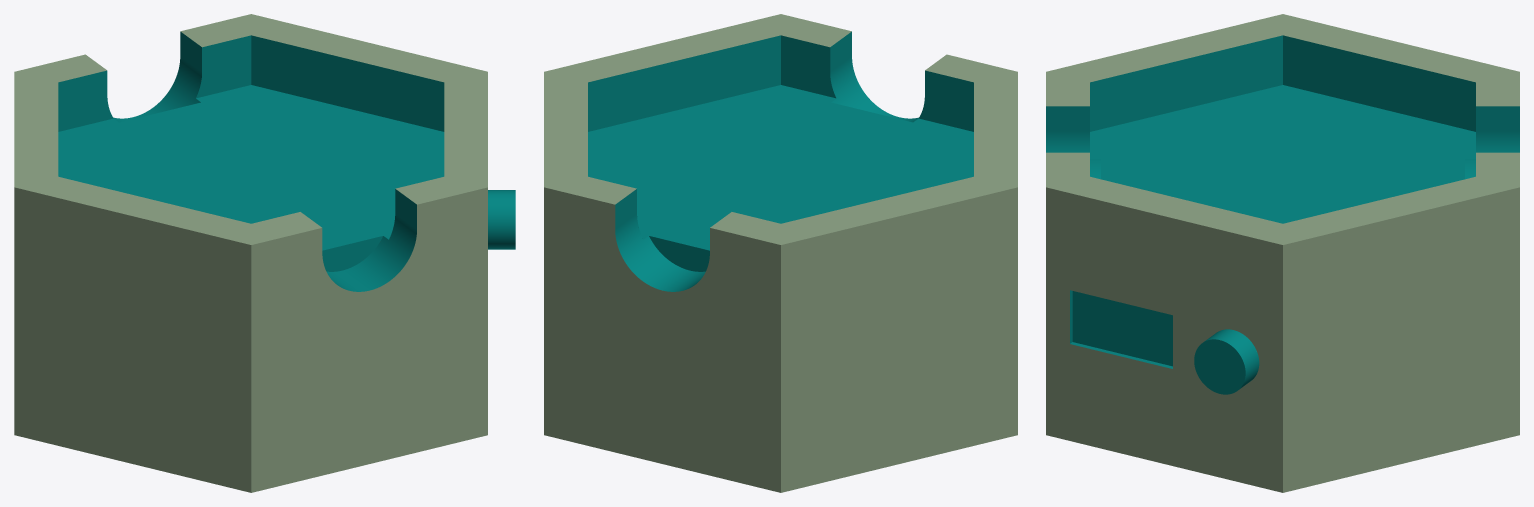
Rendered from 02-solvespace-box.glb.
The picture shows the model from 3 angles, left to right: view 1: azimuth 30°, elevation 25°; view 2: azimuth 150°, elevation 25°; view 3: azimuth 270°, elevation 25°; orthographic projection.
Parts seen in each view (by area): view 1: Product; view 2: Product; view 3: Product.
Part boxes in pixels (left/top/right/bottom): Product: left=14, top=14, right=515, bottom=492; Product: left=544, top=14, right=1017, bottom=492; Product: left=1046, top=14, right=1519, bottom=492.
Bounding box in the file's own units: 0.1018 × 0.05 × 0.0866.
